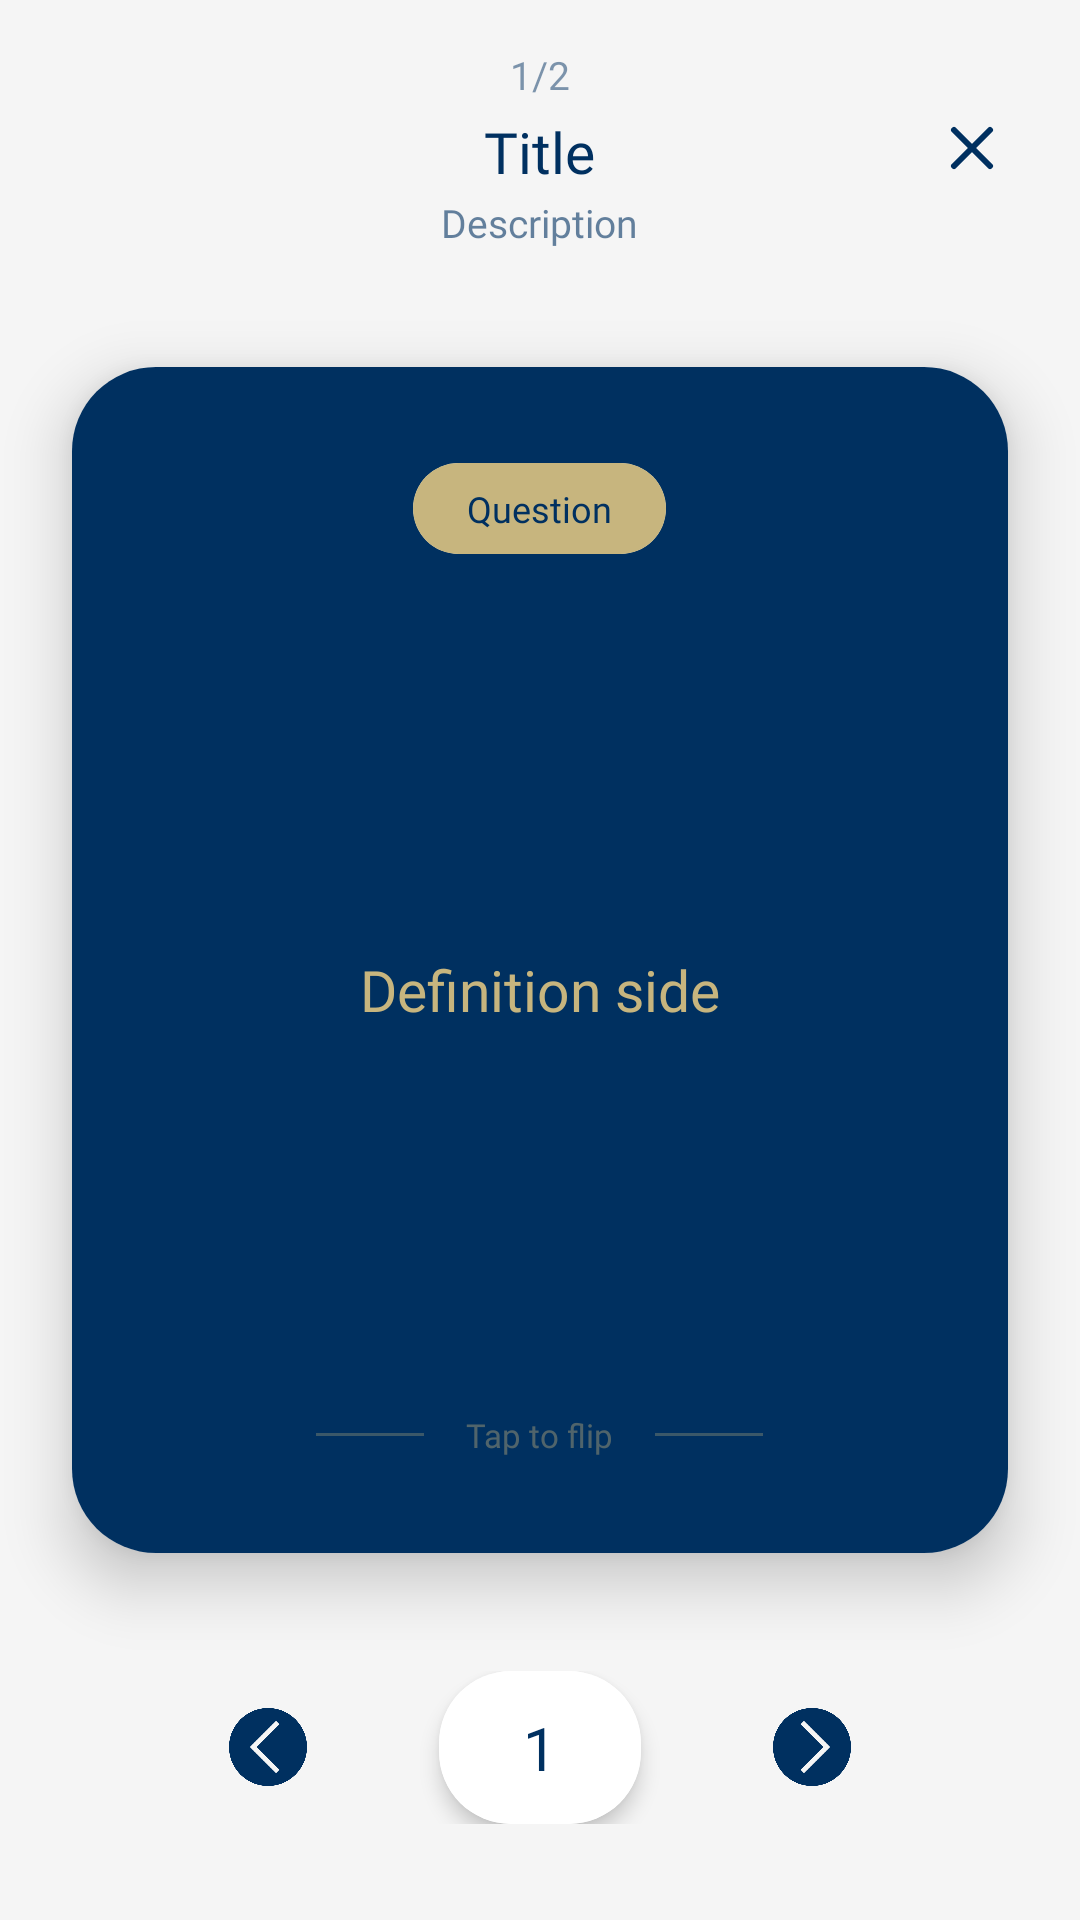

Icons on this 1080 × 1920 Android screen, each with the point to tap as [x,y]:
Close: [972,148]
Next: [812,1747]
Previous: [268,1747]
